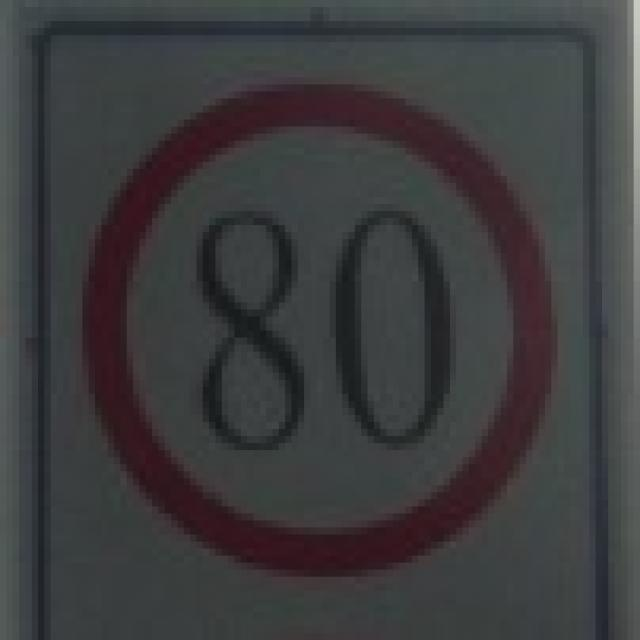Speed Limit -80-: (192, 202, 460, 459)
